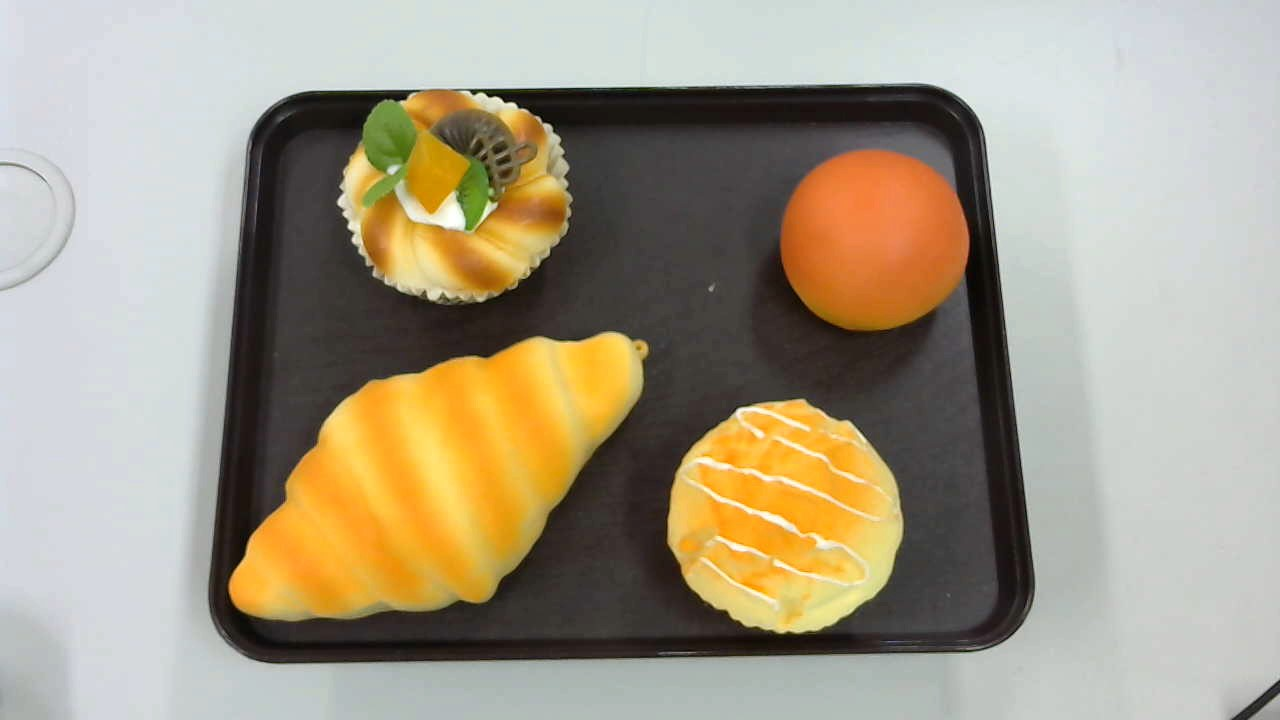bun: (779, 148, 969, 334)
croissant: (229, 331, 650, 612)
cupcake: (667, 397, 904, 632)
fruit tart: (338, 91, 571, 305)
